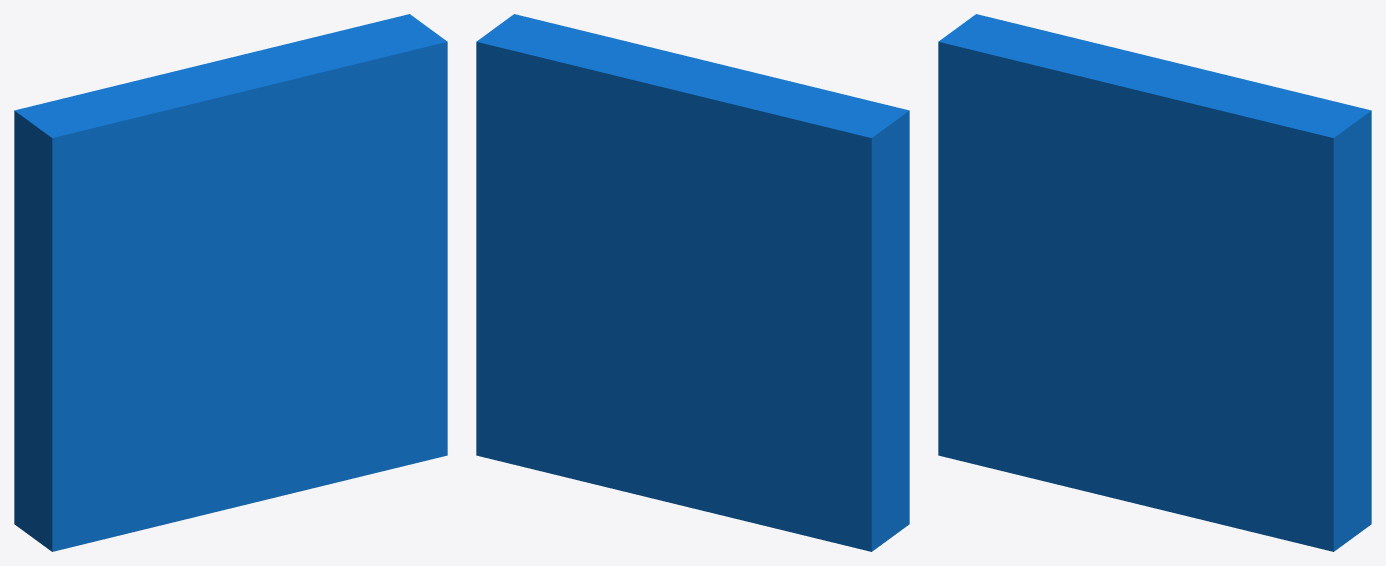
The model's file is стена.fbx.
3 views of the same model, side by side, from view 1: azimuth 30°, elevation 25°; view 2: azimuth 150°, elevation 25°; view 3: azimuth 330°, elevation 25° (orthographic).
Visible parts, largest first — view 1: Cube.010, Cube.011, Cube.013, Cube.009, Cube.014; view 2: Cube.010, Cube.011, Cube.013, Cube.009, Cube.014; view 3: Cube.010, Cube.013, Cube.009, Cube.011, Cube.014.
Part boxes in pixels (left/top/right/bottom): Cube.010: left=14, top=42, right=330, bottom=389; Cube.011: left=14, top=291, right=325, bottom=551; Cube.013: left=215, top=226, right=447, bottom=484; Cube.009: left=256, top=14, right=447, bottom=278; Cube.014: left=139, top=157, right=361, bottom=369; Cube.010: left=593, top=42, right=909, bottom=389; Cube.011: left=598, top=291, right=909, bottom=551; Cube.013: left=476, top=226, right=708, bottom=484; Cube.009: left=476, top=14, right=667, bottom=278; Cube.014: left=562, top=157, right=784, bottom=369; Cube.010: left=938, top=14, right=1254, bottom=293; Cube.013: left=1101, top=295, right=1371, bottom=551; Cube.009: left=1142, top=82, right=1371, bottom=333; Cube.011: left=938, top=236, right=1211, bottom=521; Cube.014: left=1025, top=160, right=1247, bottom=351.
Size of the model in its own units: 674 by 674 by 112.
